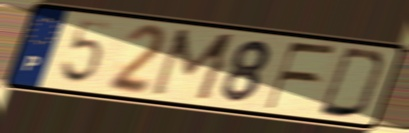2: (104, 22, 169, 97)
5: (57, 17, 116, 87)
8: (220, 38, 274, 105)
D: (315, 45, 390, 122)
F: (262, 40, 340, 112)
M: (146, 26, 241, 105)
